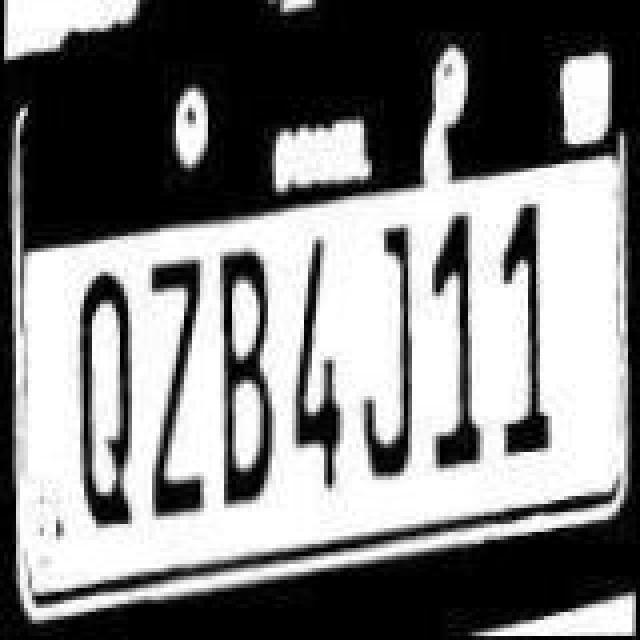1: (496, 204, 568, 460), (428, 204, 484, 484)
4: (288, 232, 352, 516)
B: (210, 244, 282, 508)
J: (364, 204, 420, 484)
Q: (74, 270, 146, 538)
Z: (138, 254, 210, 522)
